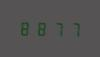eight: (18, 19, 32, 36), (33, 19, 47, 36)
seven: (48, 19, 62, 37), (63, 20, 77, 37)
